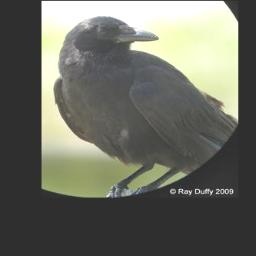Crow: (52, 15, 237, 196)
